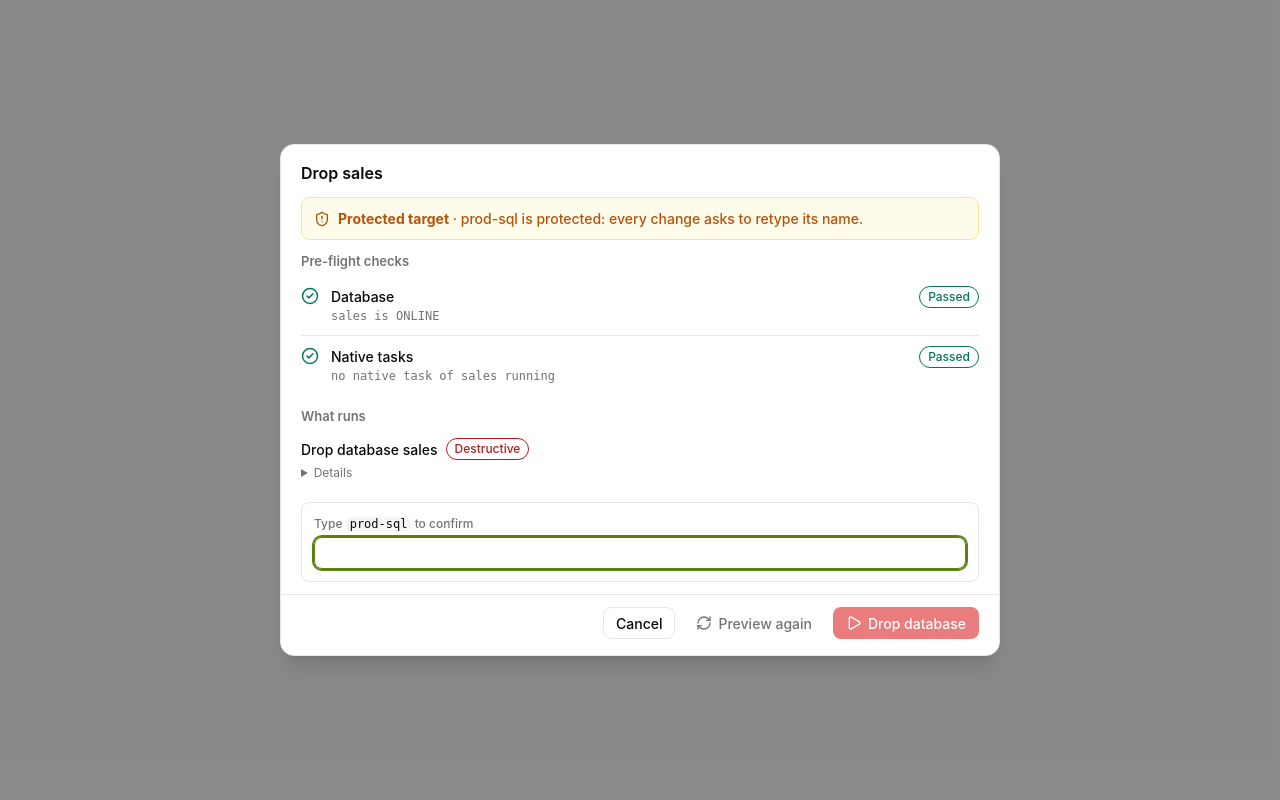
Test: PlanDialog › asks for the target name on a protected target
The image size is (1280, 800).
Expected: the text "Protected target" is shown, [338, 210, 449, 227]
Expected: the text "prod-sql is protected: every change asks to retype its name." is shown, [461, 210, 863, 227]
Type "sales" into the field labelled "Type prod-sql to confirm". click: (640, 553)
box: [314, 537, 966, 569]
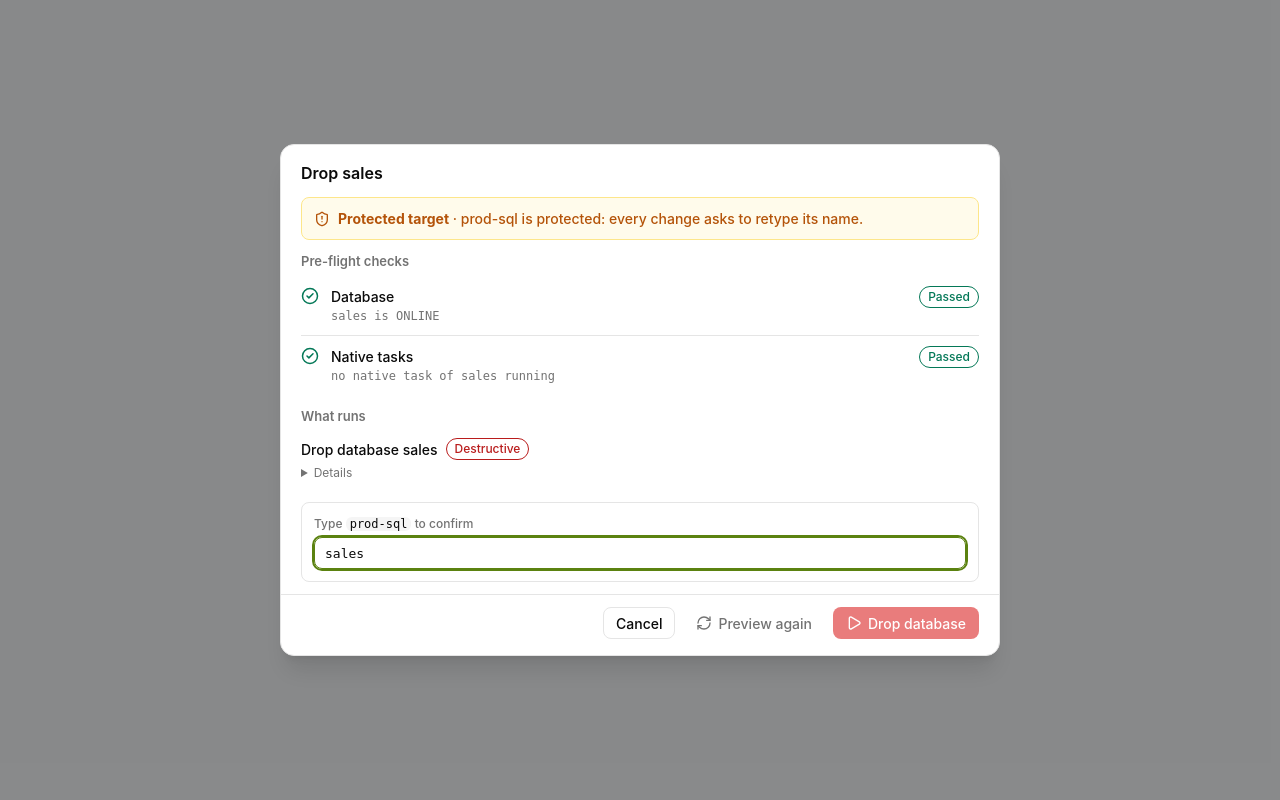
Expected: the button "Drop database" is disabled, [833, 607, 979, 639]
Replace the text in the field labelled "Type prod-sql to confirm" with "prod-sql". click: (640, 553)
box: [314, 537, 966, 569]
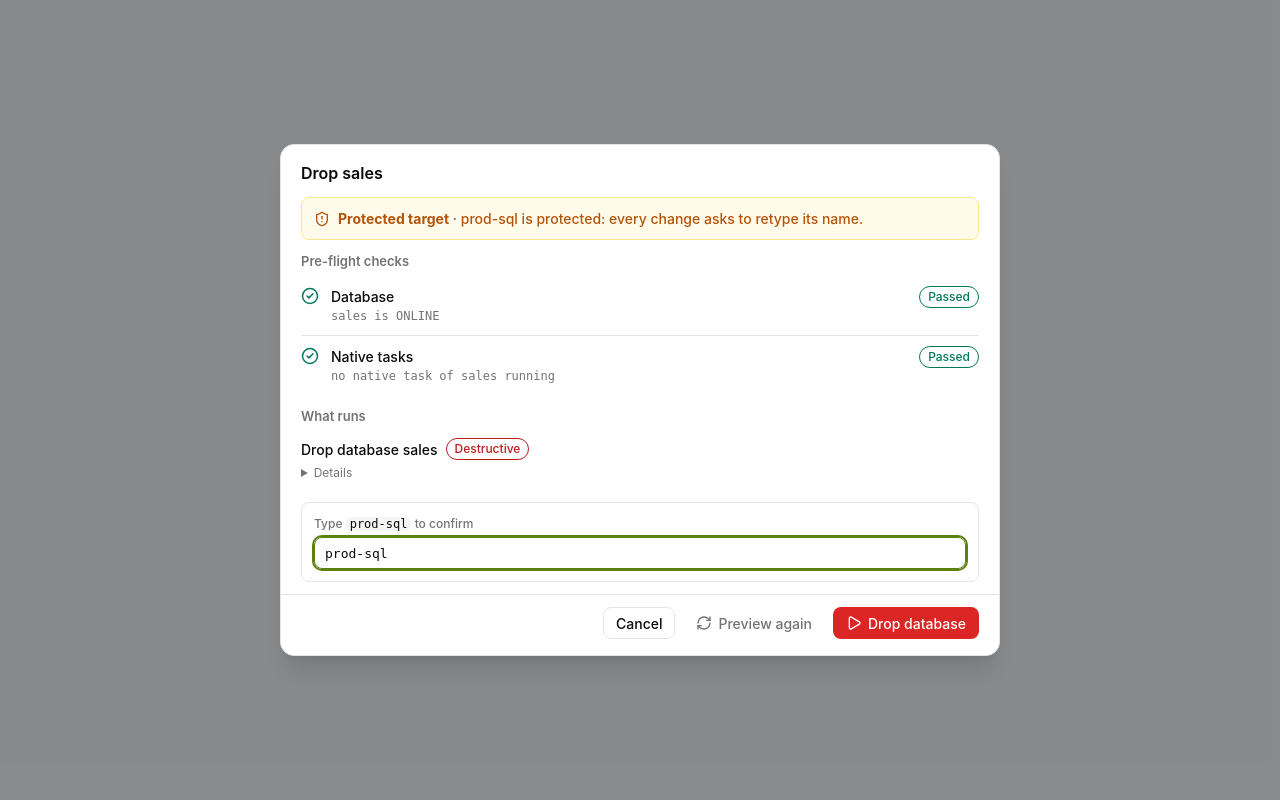
Expected: the button "Drop database" is enabled, [833, 607, 979, 639]
